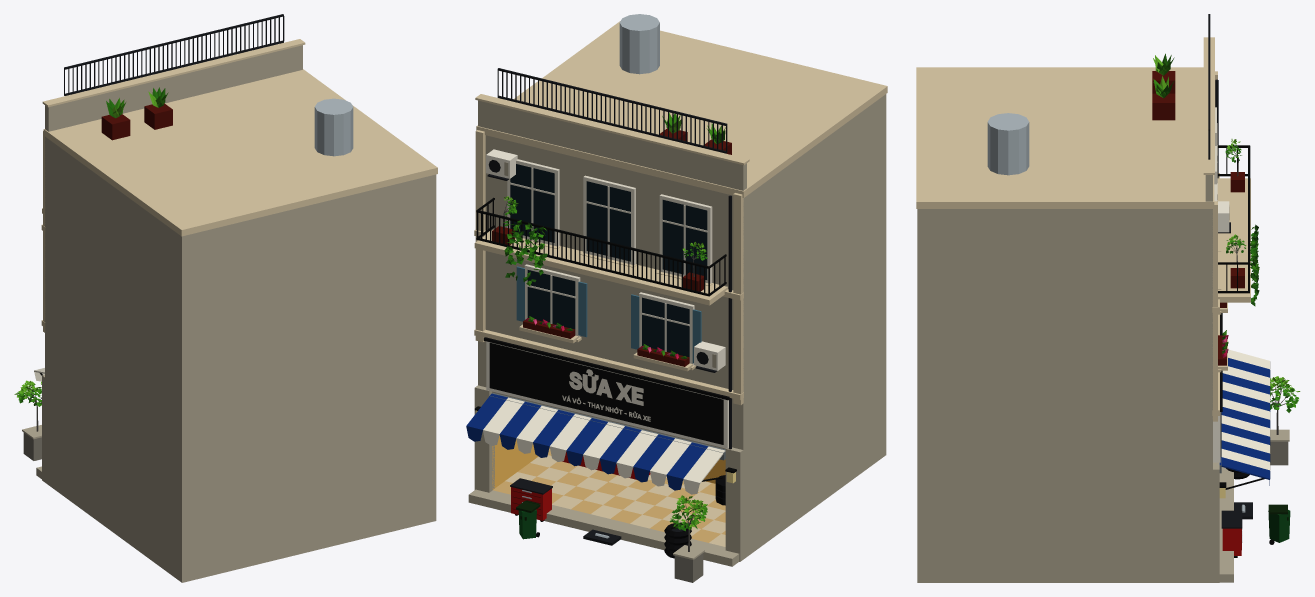
The model's file is PV_StreetShop05.fbx.
The picture shows the model from 3 angles, left to right: view 1: azimuth 30°, elevation 25°; view 2: azimuth 150°, elevation 25°; view 3: azimuth 270°, elevation 25°; orthographic projection. The views are drawn at different scales.
Visible parts, largest first — view 1: PV_StreetShop05_LOD0; view 2: PV_StreetShop05_LOD0; view 3: PV_StreetShop05_LOD0.
Boxes of the visible parts, box(x1,y1,x2,y2) form: PV_StreetShop05_LOD0: box(14, 14, 437, 582); PV_StreetShop05_LOD0: box(466, 14, 887, 582); PV_StreetShop05_LOD0: box(916, 14, 1300, 582).
Size of what is drawn, in the model's own units: 8.46 by 12.94 by 10.14.
1 material, 1 textured.
